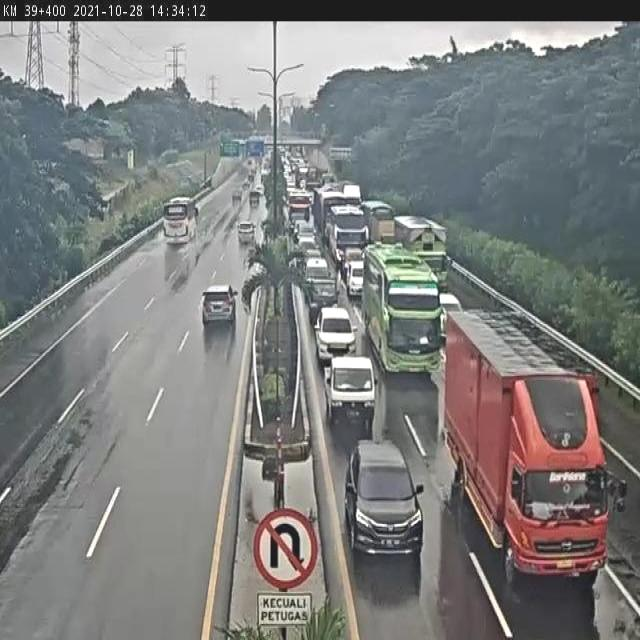Bus: (362, 239, 445, 375), (163, 186, 200, 254)
Car: (346, 442, 423, 554), (323, 356, 379, 425), (314, 307, 356, 359), (199, 278, 237, 333)
Truck: (443, 307, 608, 586)
